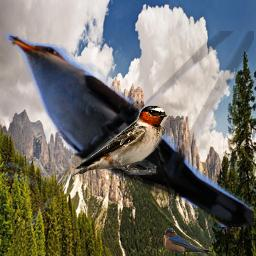Cuckoo: (3, 31, 254, 227)
Swallow: (73, 104, 168, 175), (163, 228, 217, 256)
